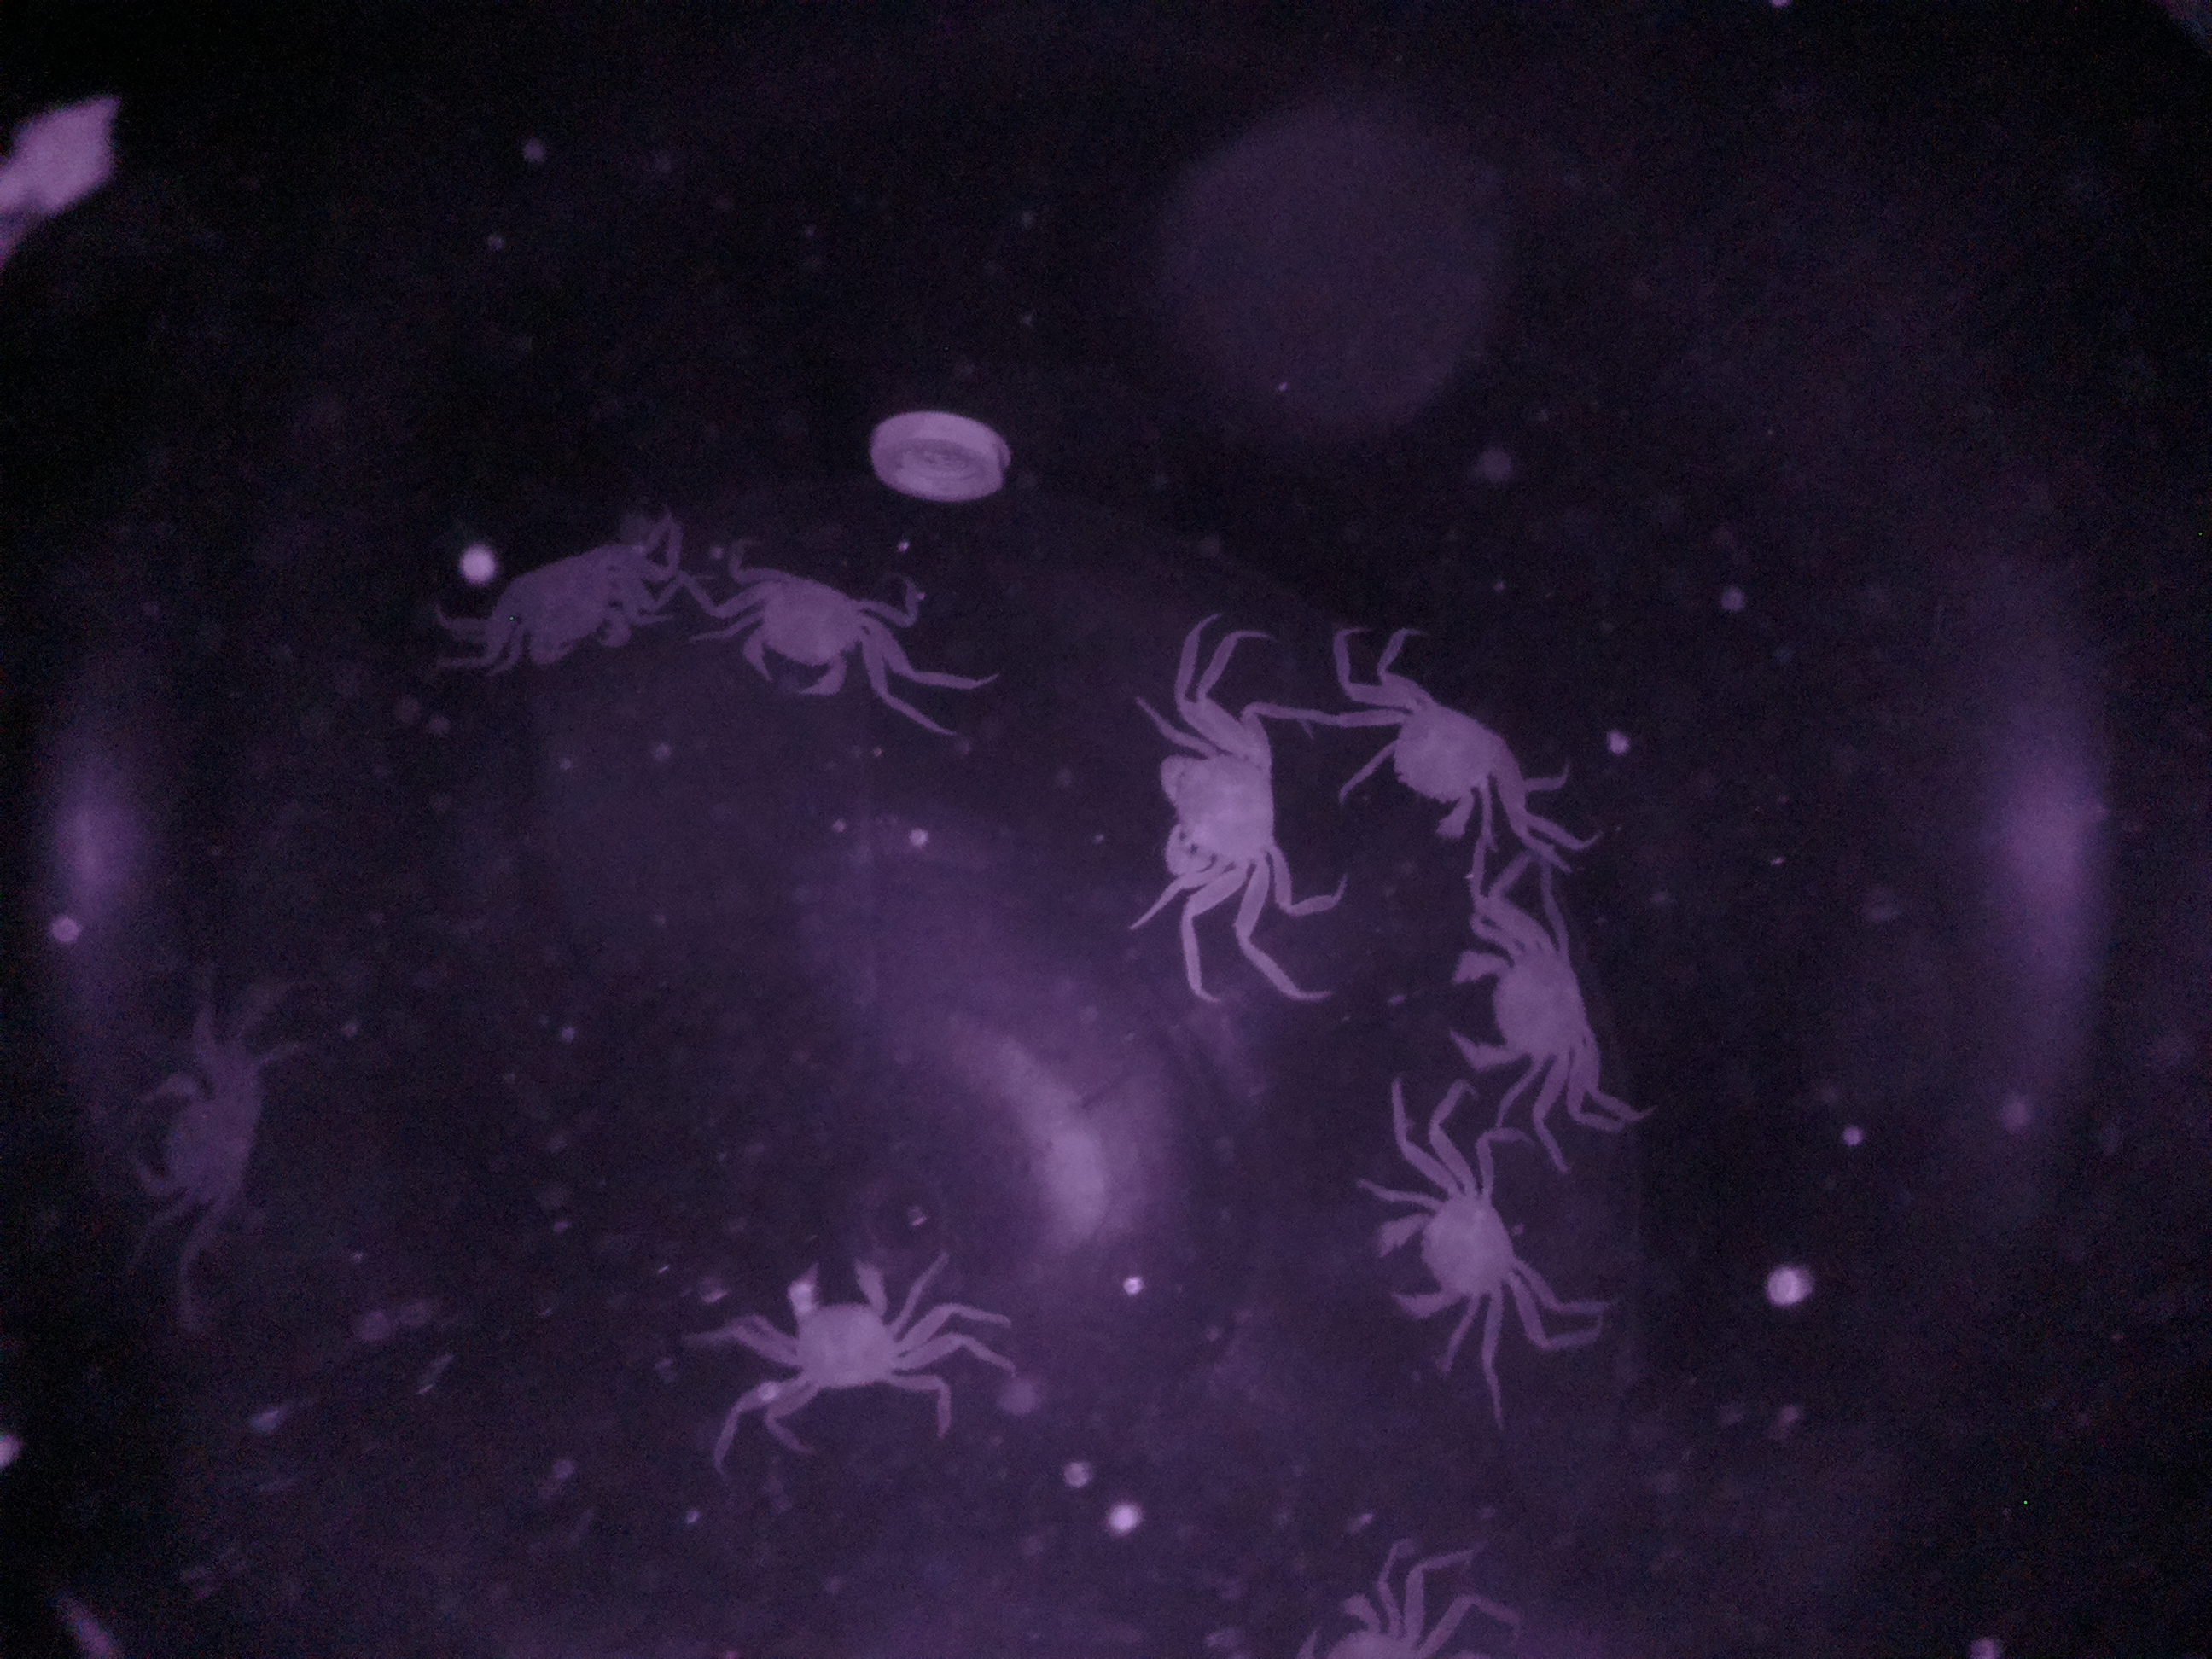Crab: (723, 1234, 935, 1422), (1428, 896, 1604, 1119), (1143, 671, 1280, 951), (1362, 1155, 1547, 1354), (1343, 659, 1531, 850), (479, 540, 691, 694), (705, 551, 894, 720)
